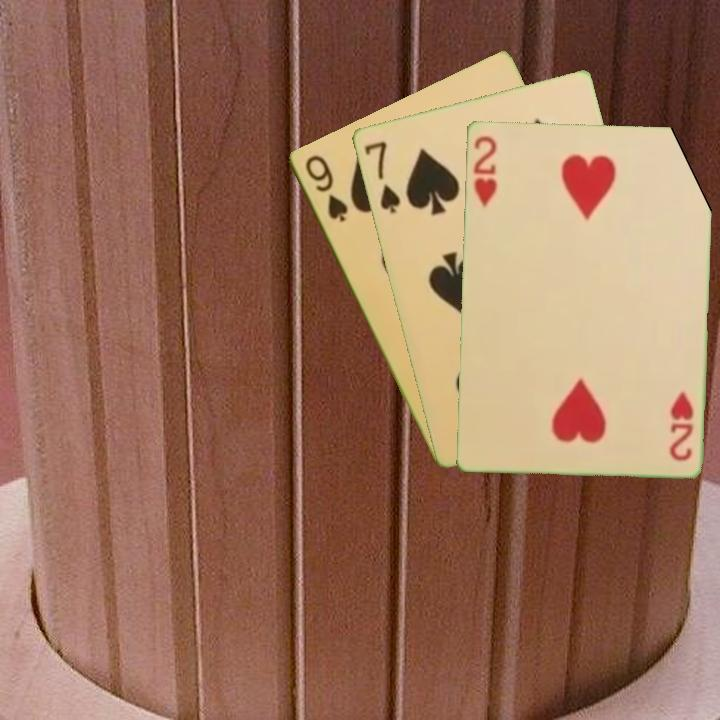2h: (469, 131, 499, 210), (665, 388, 696, 463)
7s: (360, 137, 403, 216)
9s: (300, 151, 351, 225)
